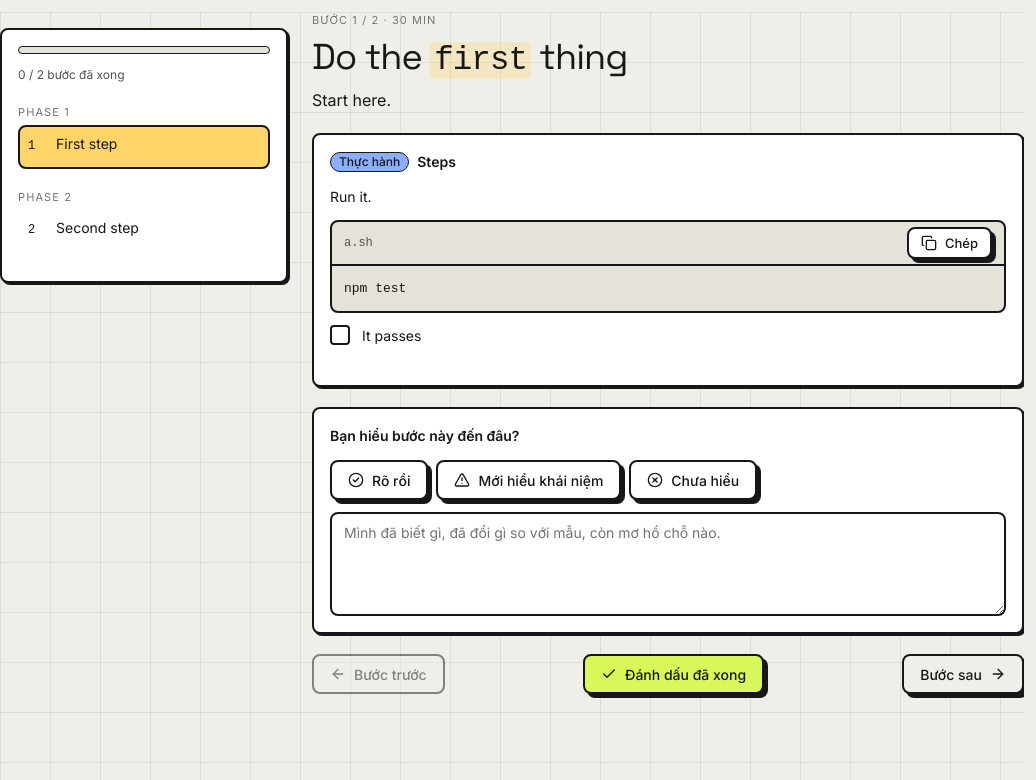
Test: StepTutor › moves to the next step
The image size is (1036, 780).
What coordinates should you click on to do the following:
click the button "Bước sau"
I would click on:
 (963, 674)
Its box is [902,654,1024,694].
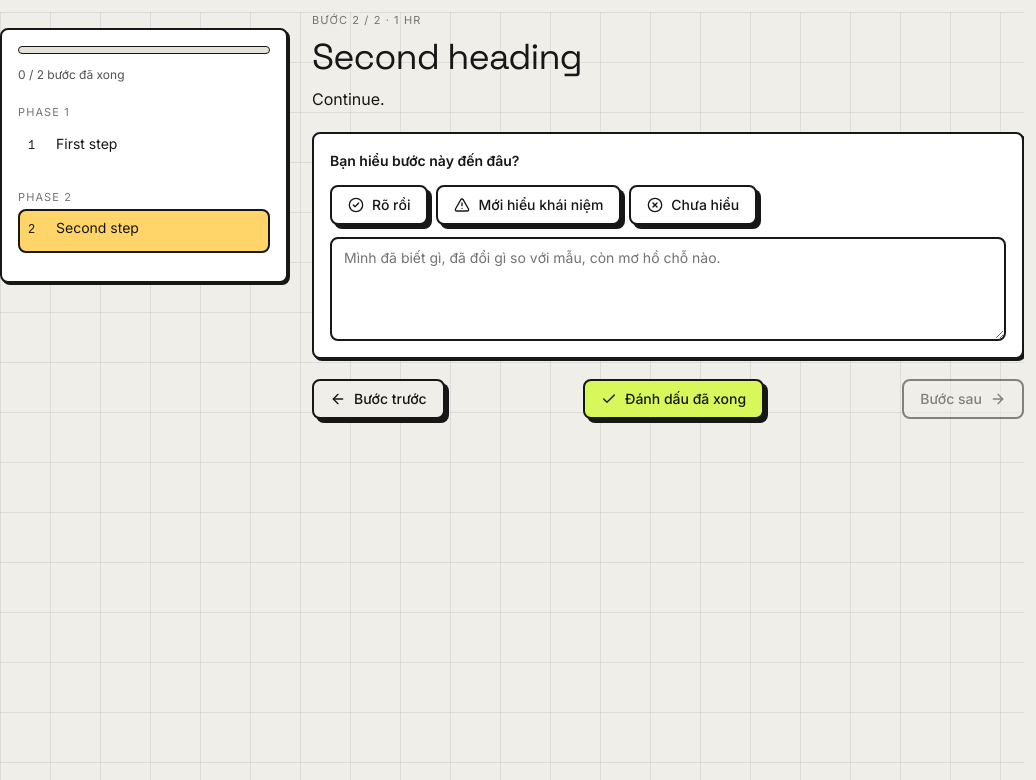
Expected: the heading "Second heading" is shown, [312,34,582,80]
Expected: the button "Bước sau" is disabled, [902,379,1024,419]
